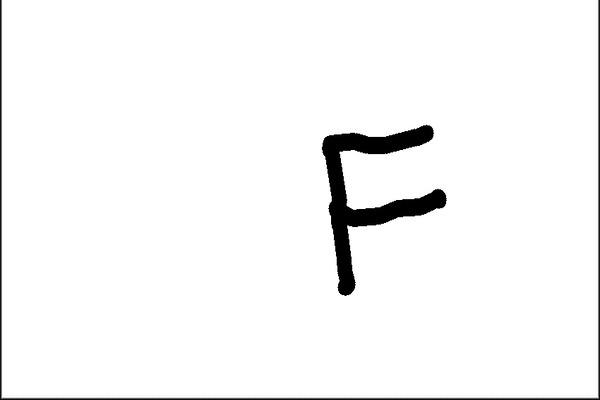F: (315, 122, 449, 300)
